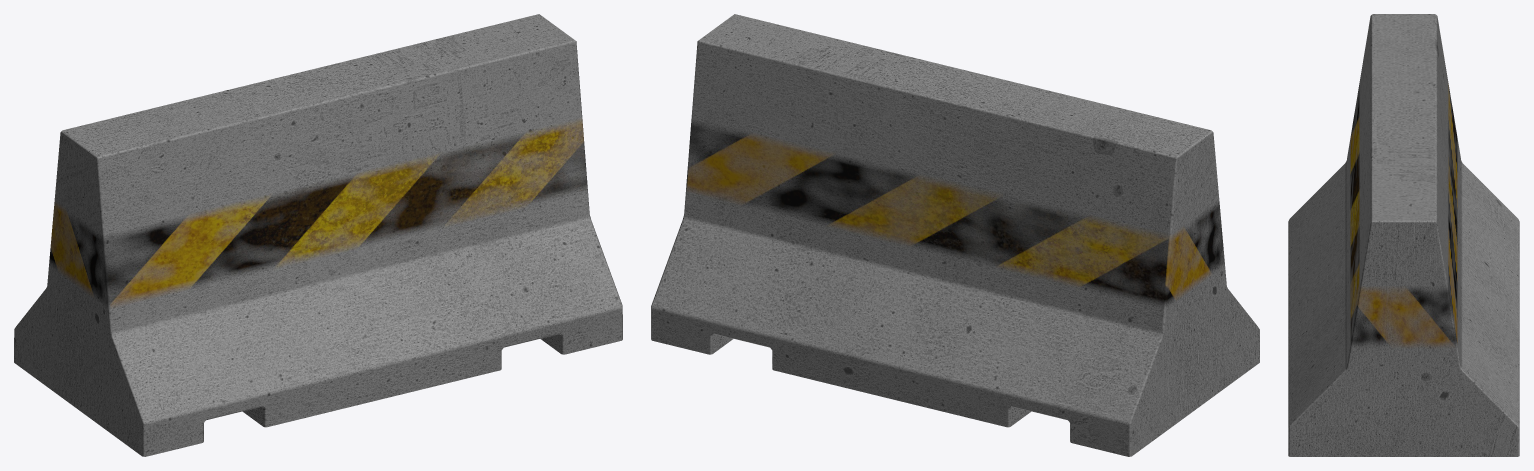
The model's file is Concrete barrier.fbx.
The picture shows the model from 3 angles, left to right: view 1: azimuth 30°, elevation 25°; view 2: azimuth 150°, elevation 25°; view 3: azimuth 270°, elevation 25°; orthographic projection. The views are drawn at different scales.
Parts seen in each view (by area): view 1: Concrete barrier; view 2: Concrete barrier; view 3: Concrete barrier.
Part boxes in pixels (x1=…): Concrete barrier: x1=14, y1=14, x2=622, y2=456; Concrete barrier: x1=651, y1=14, x2=1259, y2=456; Concrete barrier: x1=1288, y1=14, x2=1519, y2=456.
Size of the model in its own units: 100 by 52.94 by 47.11.
